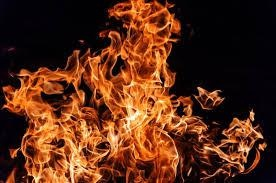fire: (6, 14, 202, 180)
